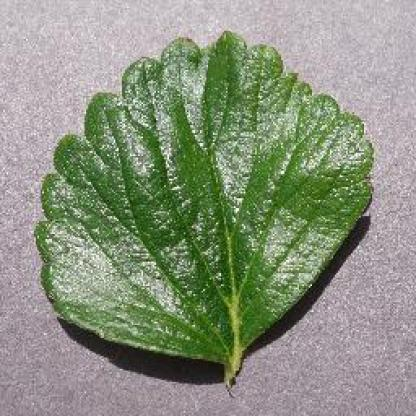healthy: (28, 16, 393, 411)
